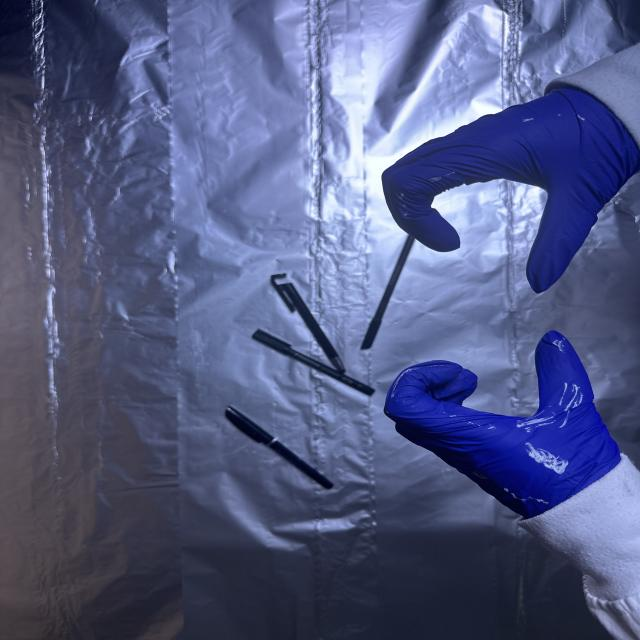gloves_contaminated: (382, 88, 640, 293), (384, 331, 621, 519)
